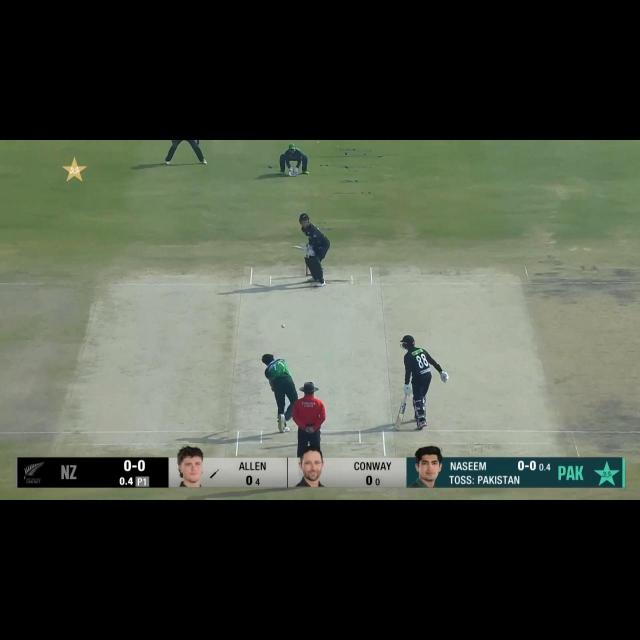bat: (393, 403, 408, 432), (290, 242, 306, 252)
toe: (393, 421, 405, 432), (290, 243, 296, 251)
